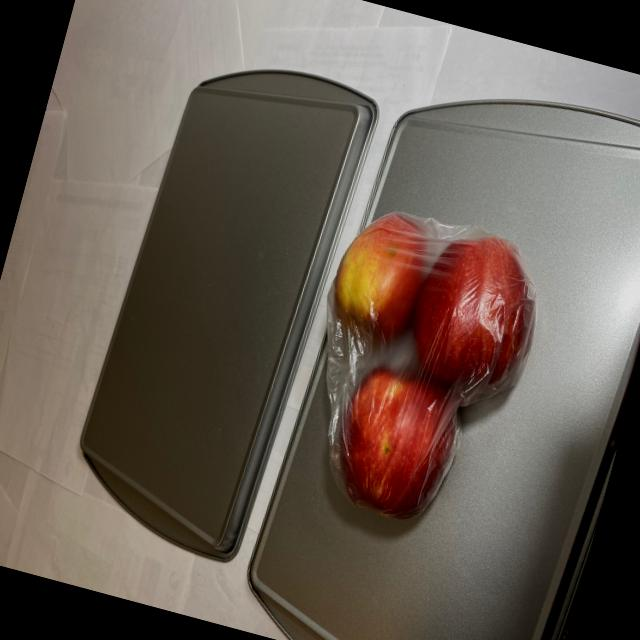apple: (273, 198, 557, 556)
